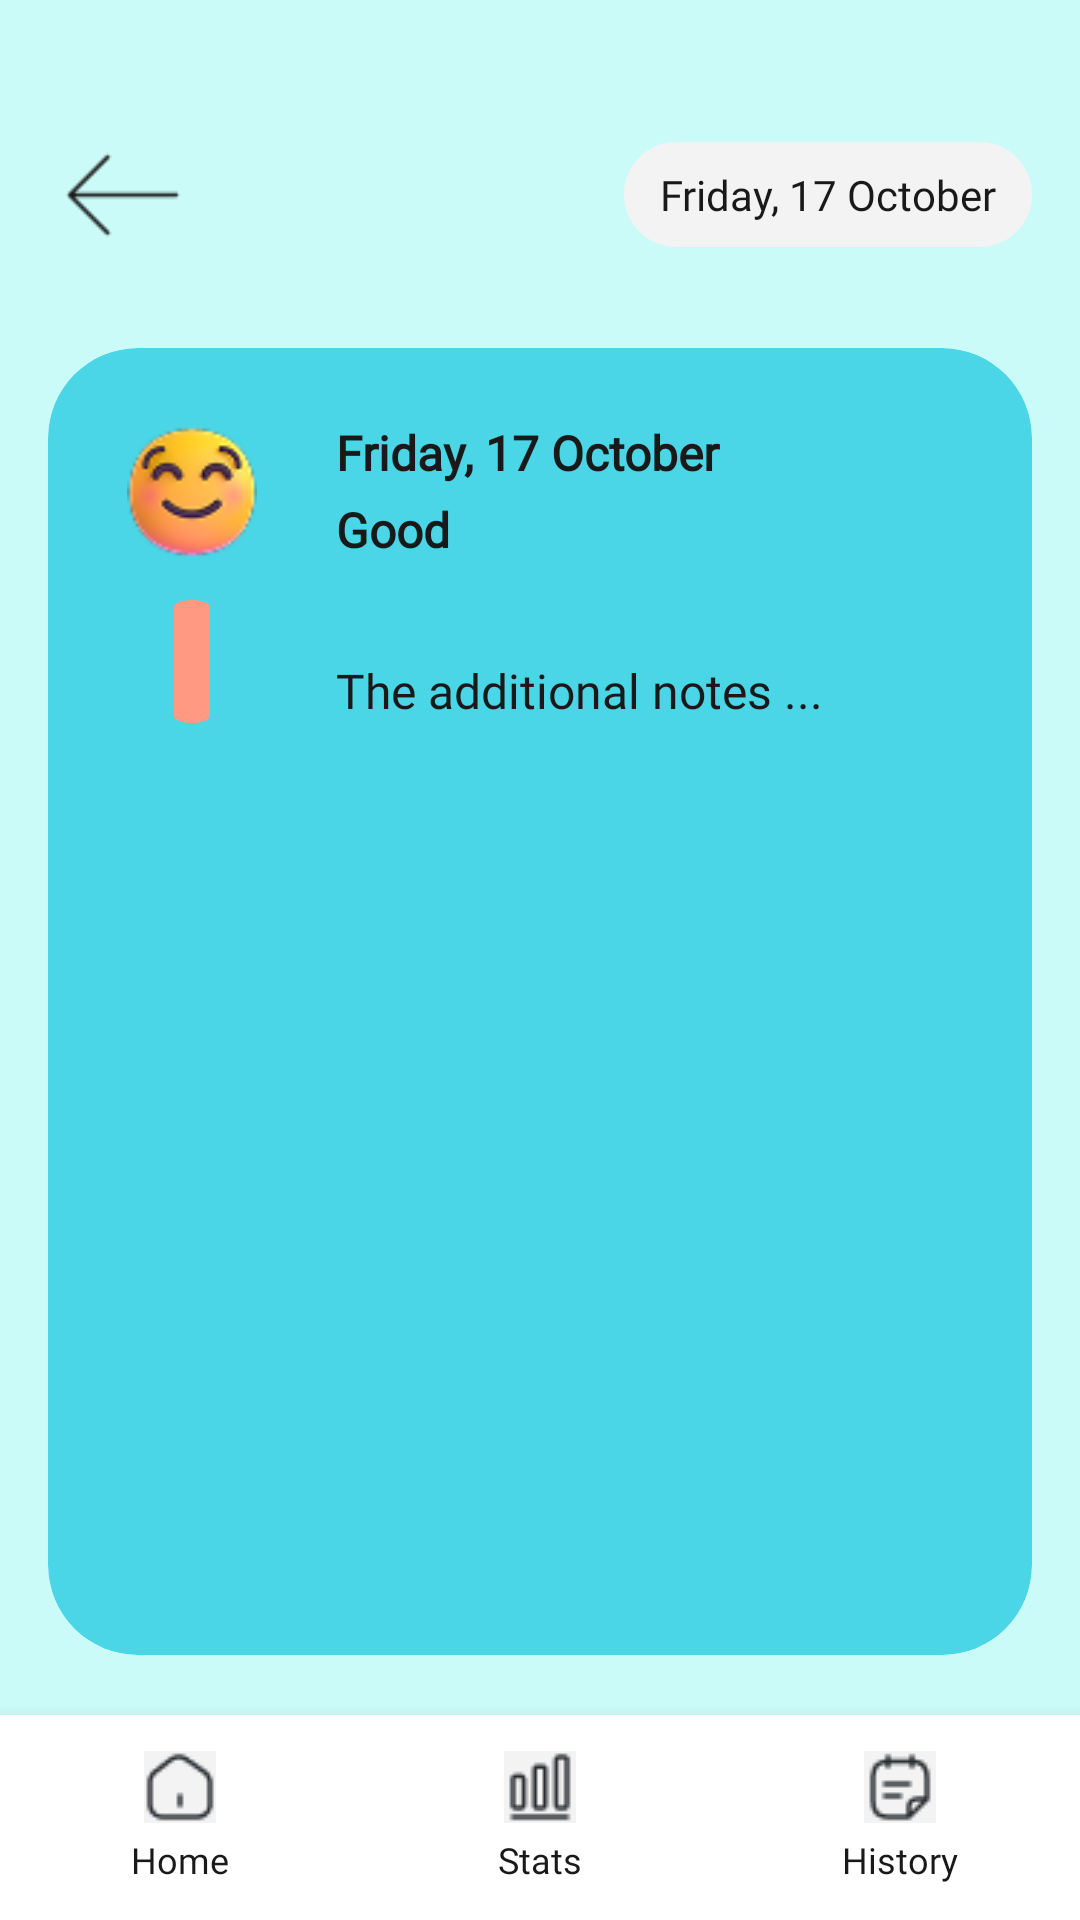

Where to tap for icons on this 1080w x 1920h app screen, as (x,y):
back: (123,195)
Mood Emoji: (192,492)
